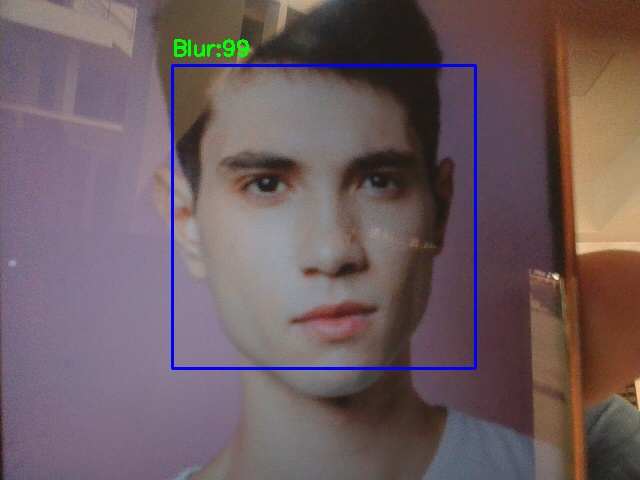fake: (172, 65, 475, 368)
